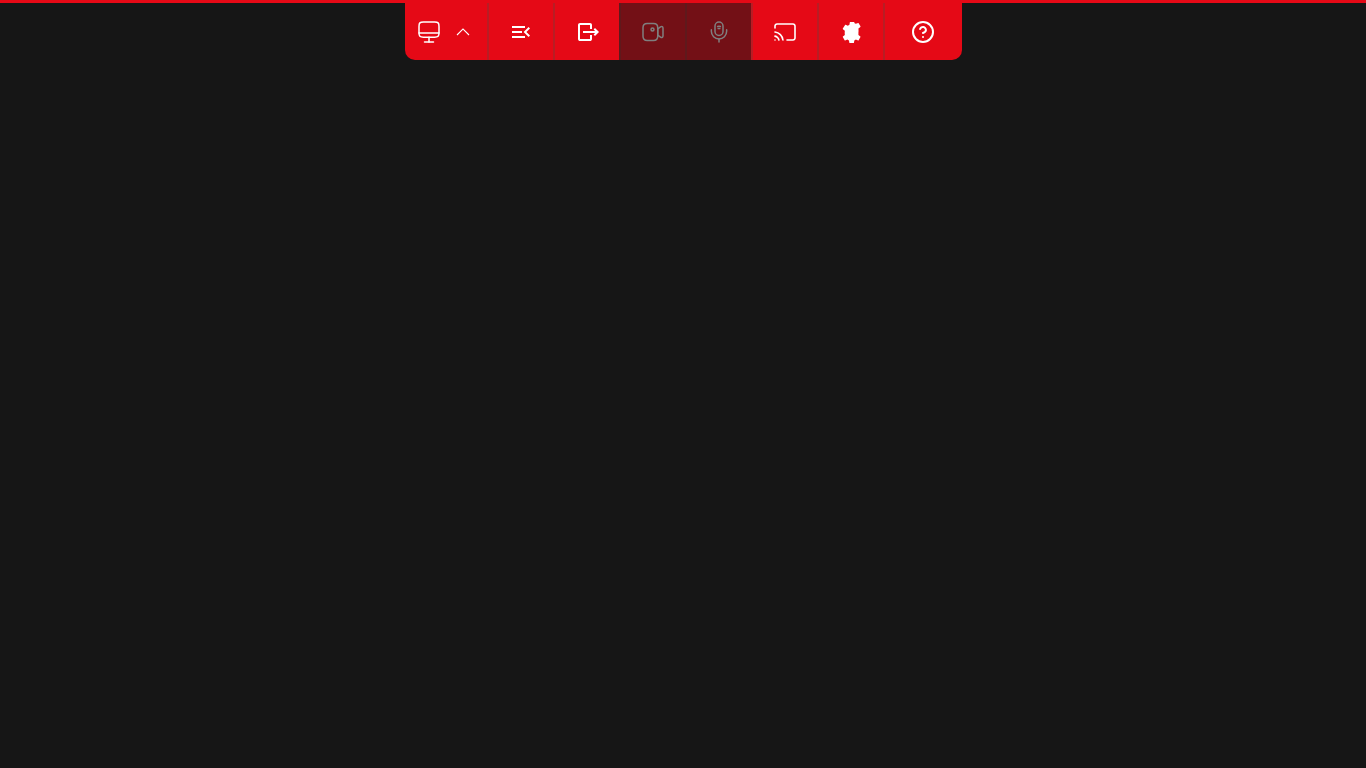
Test: HostTheaterButtonBar › renders Settings instead of Share and opens Watch Party Settings
Click the button named "Settings". click: (850, 32)
box: [816,3,882,60]
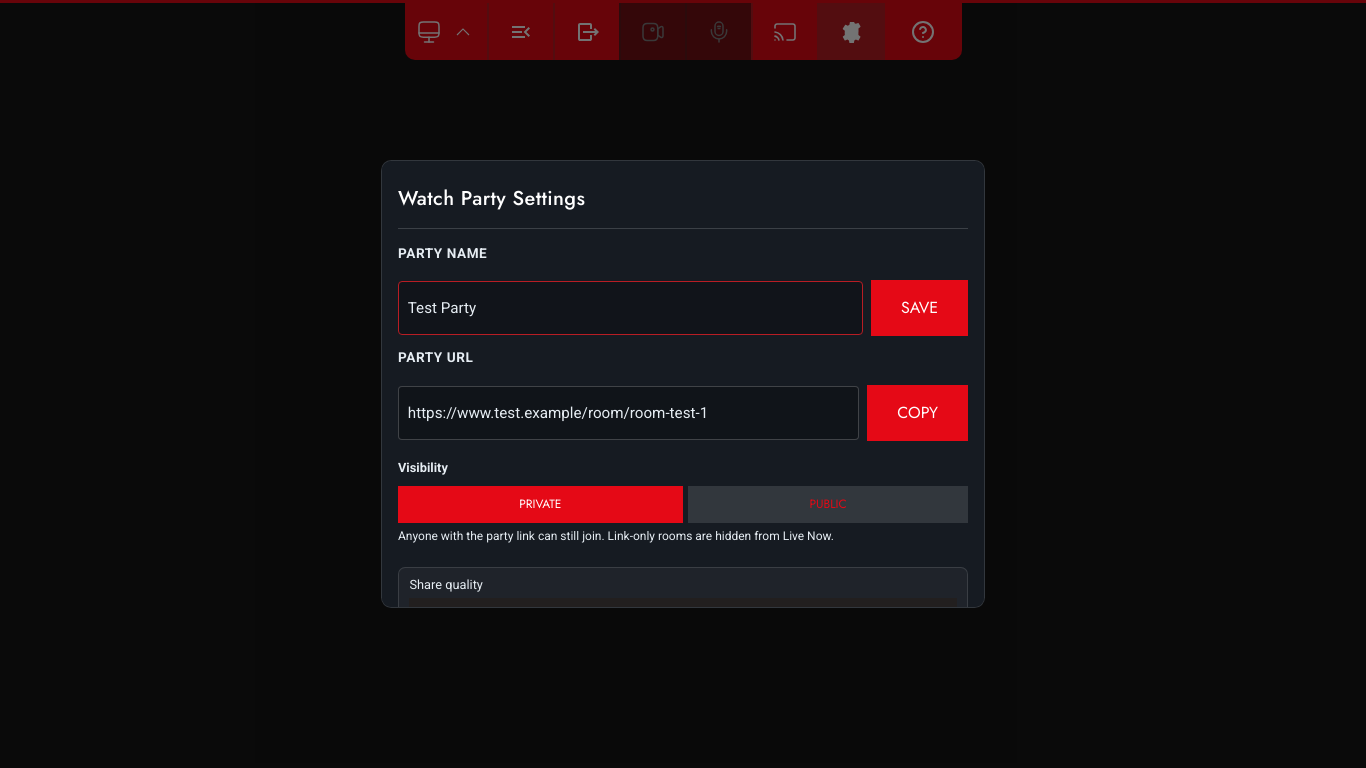
Expected: the button named "Settings" is expanded, [816,3,882,60]
Expected: the dialog is shown, [381,160,985,608]
Expected: the text "Watch Party Settings" is shown, [398,177,968,229]
